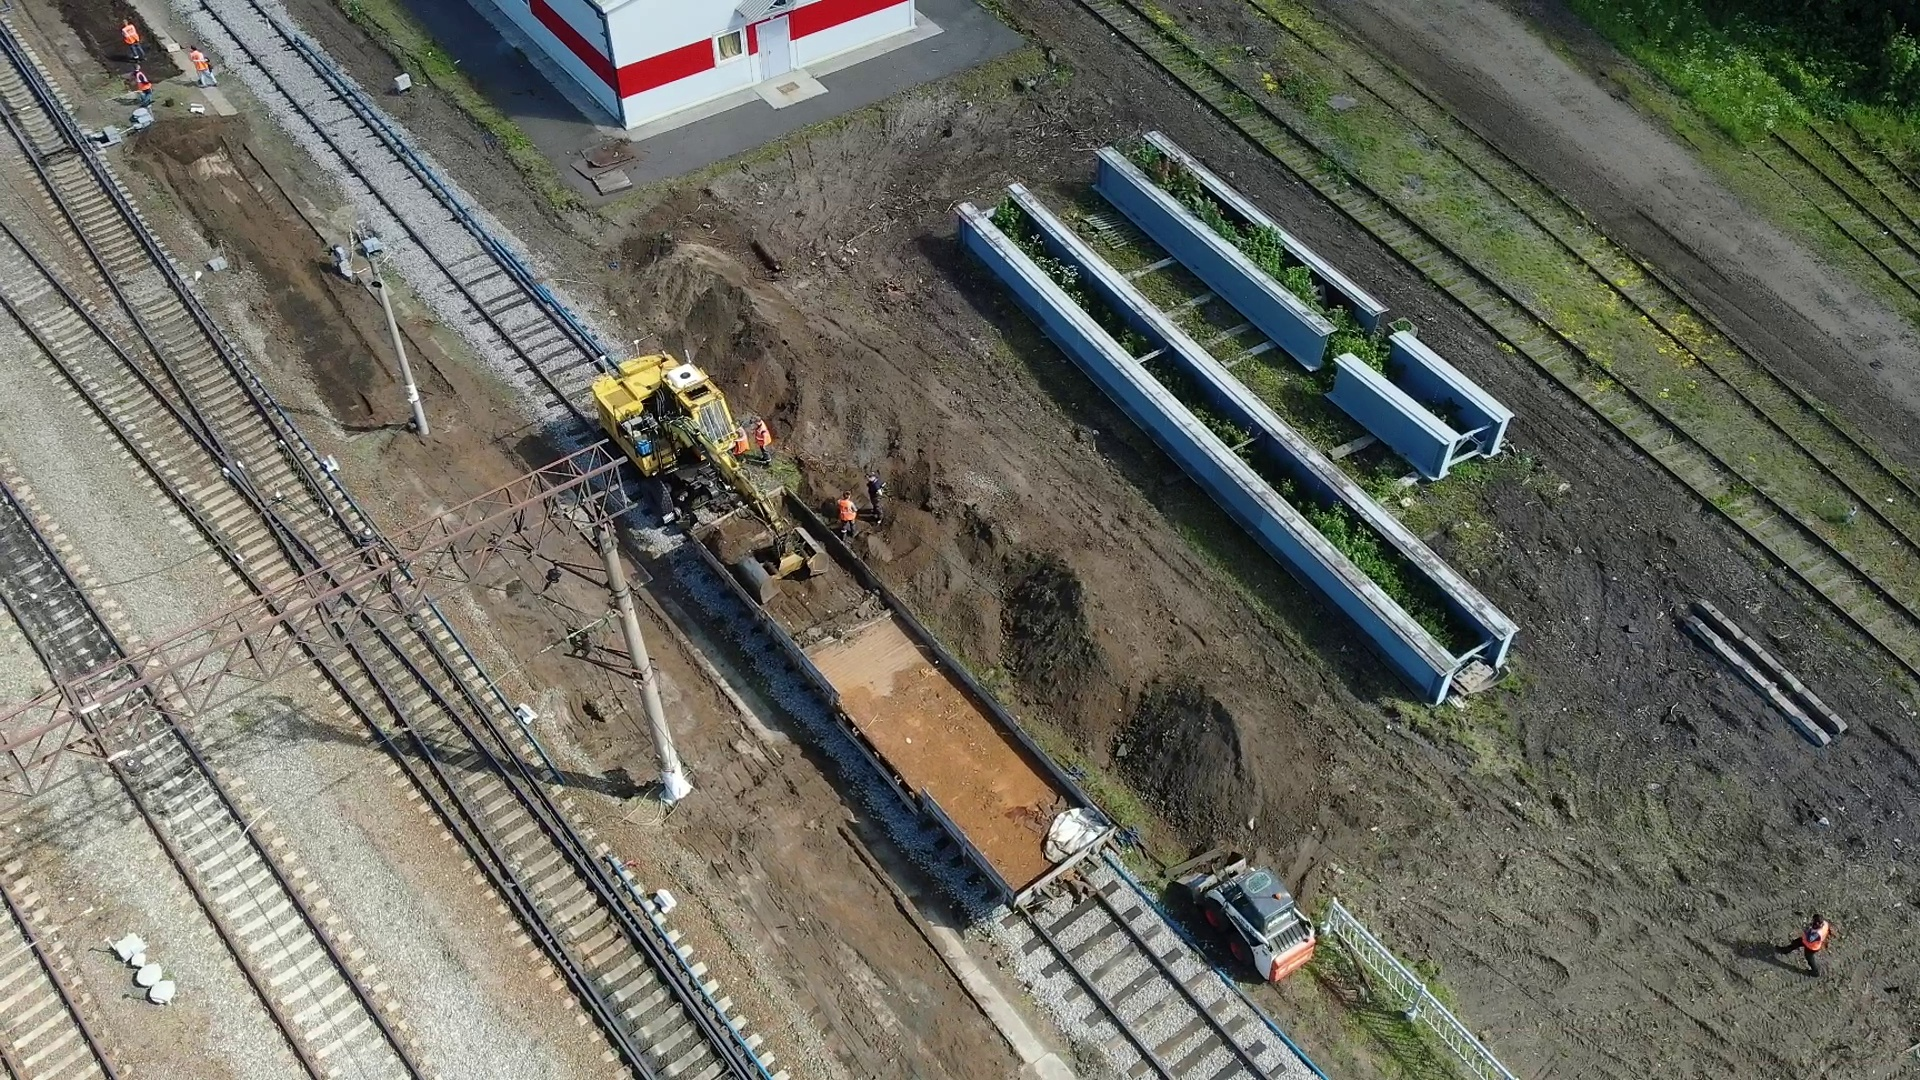kjtv: (595, 357, 744, 510)
